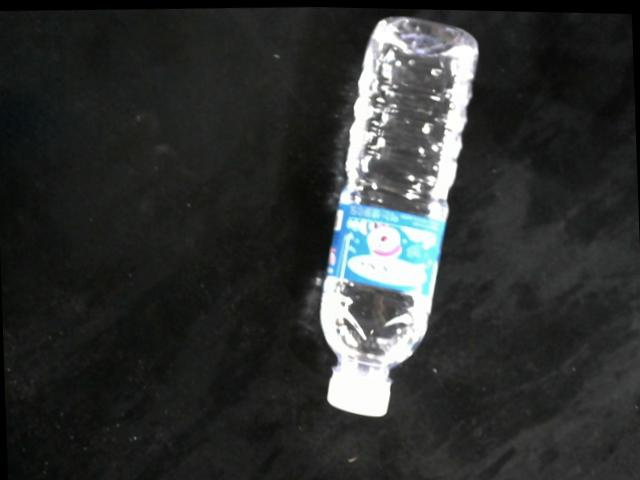bottle: (316, 13, 482, 419)
